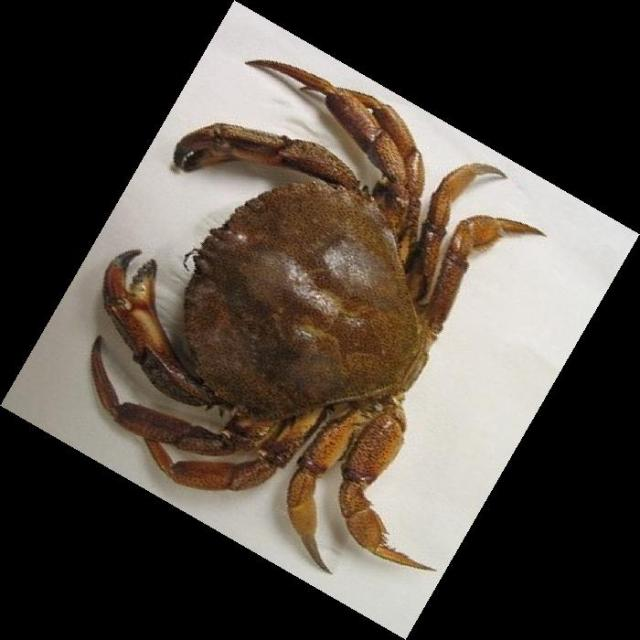Native Rock crab: (91, 59, 544, 571)
